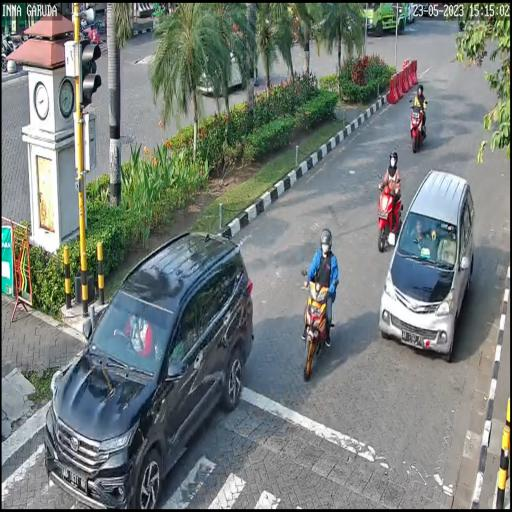mobil: (45, 232, 260, 500), (380, 168, 479, 366)
motor: (301, 265, 338, 377), (374, 170, 402, 254), (408, 97, 428, 154)
